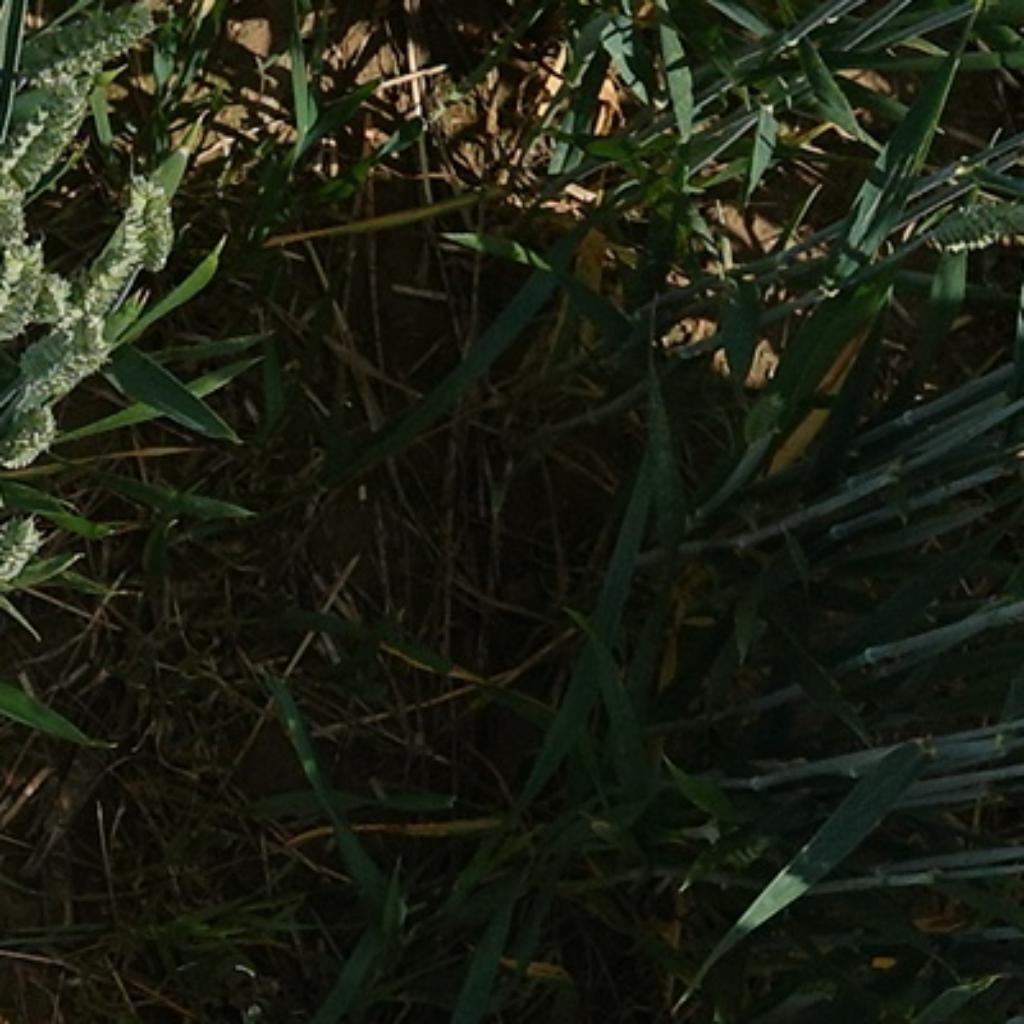0-0: (53, 215, 176, 330), (28, 2, 171, 94), (7, 304, 128, 399), (97, 168, 181, 294), (18, 86, 100, 185), (926, 186, 1024, 256), (0, 373, 64, 465), (0, 239, 47, 344), (0, 98, 55, 179), (0, 506, 51, 583), (0, 168, 37, 258)
